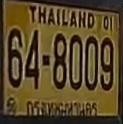0: (68, 34, 83, 90), (85, 35, 98, 91)
4: (25, 29, 40, 90)
6: (8, 28, 23, 87)
8: (53, 33, 67, 89)
9: (100, 36, 113, 91)
BKK: (22, 95, 103, 118)
